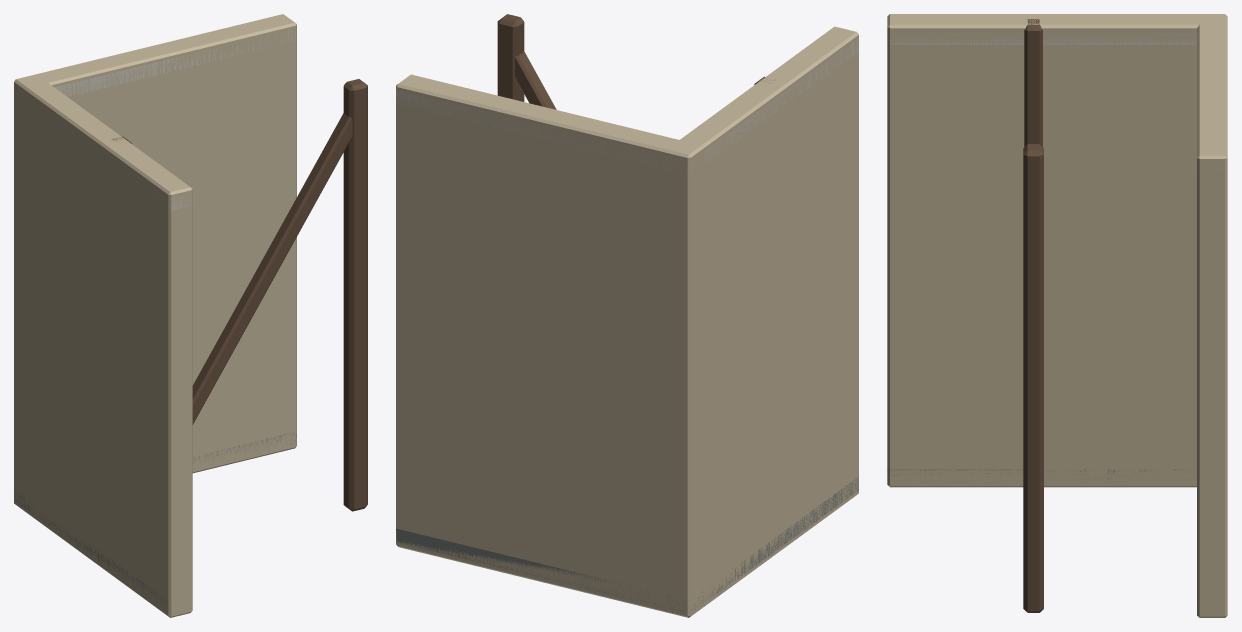
The model's file is architecture-village-inner-corner.lod0.glb.
3 renders of one model, left to right at view 1: azimuth 30°, elevation 25°; view 2: azimuth 150°, elevation 25°; view 3: azimuth 270°, elevation 25°, orthographic. The views are drawn at different scales.
Visible parts, largest first — view 1: architecture-village-inner-corner__body; view 2: architecture-village-inner-corner__body; view 3: architecture-village-inner-corner__body.
Boxes of the visible parts, left/top/right/bottom form: architecture-village-inner-corner__body: left=14, top=14, right=367, bottom=617; architecture-village-inner-corner__body: left=396, top=14, right=858, bottom=617; architecture-village-inner-corner__body: left=887, top=14, right=1227, bottom=617.
Bounding box in the file's own units: 2 × 3 × 2.
